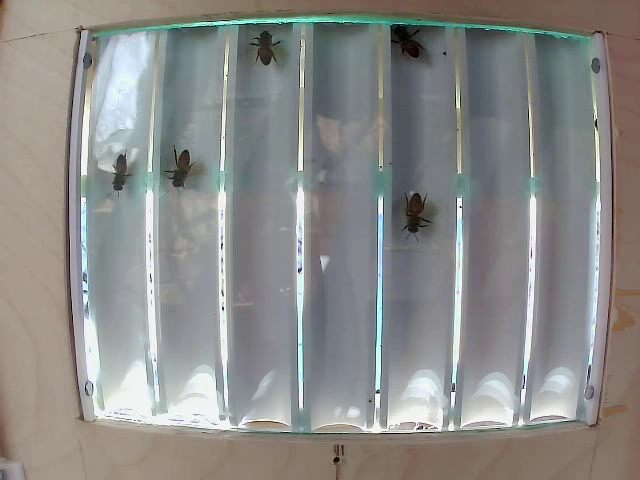bee: (99, 152, 144, 203), (158, 151, 210, 194), (247, 17, 286, 74), (386, 19, 426, 71), (402, 177, 429, 247)
